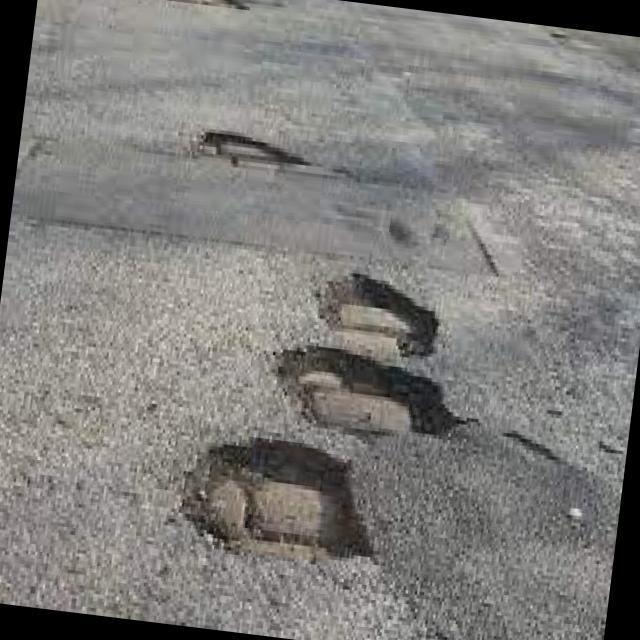Pothole: (178, 442, 369, 557), (268, 348, 461, 438), (310, 270, 432, 353), (197, 131, 298, 164)
